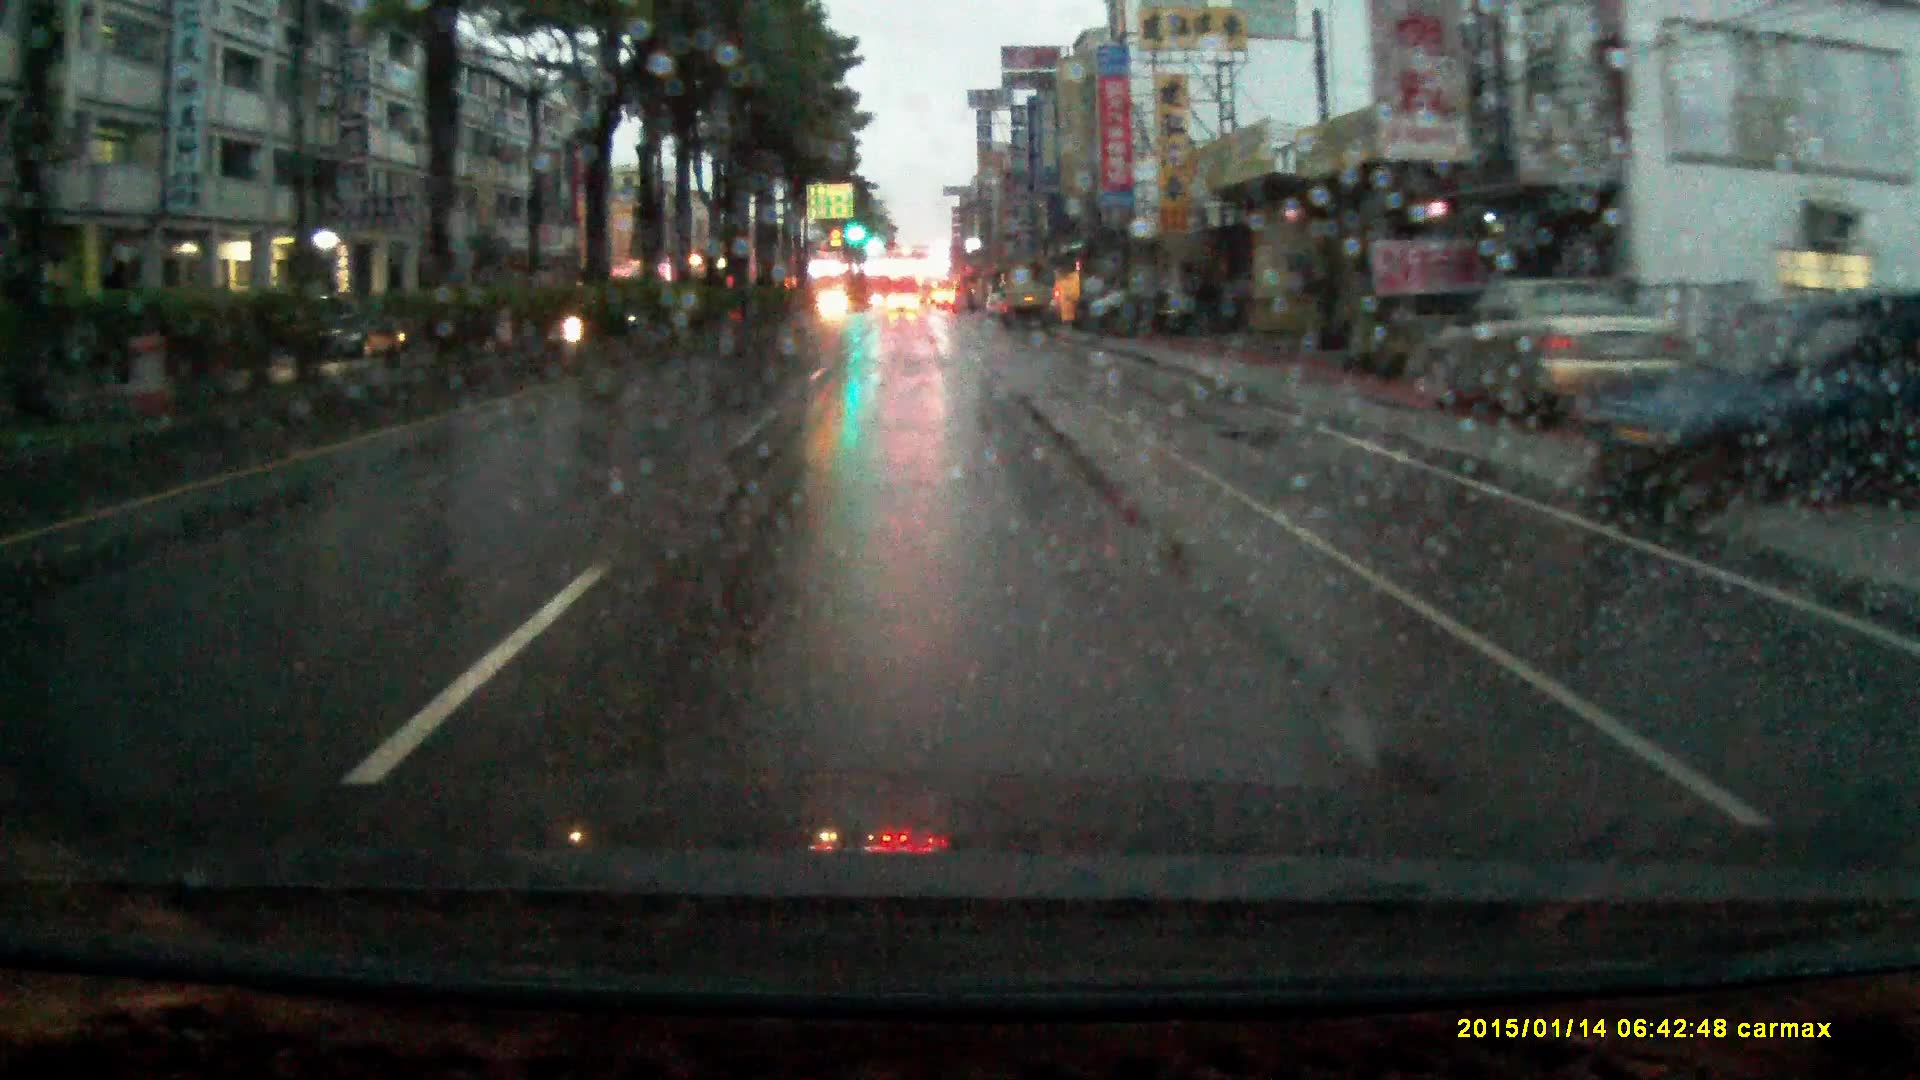vehicle: (1575, 293, 1920, 516), (1451, 281, 1679, 429), (1073, 284, 1242, 338), (1000, 284, 1051, 335), (886, 294, 920, 316)
